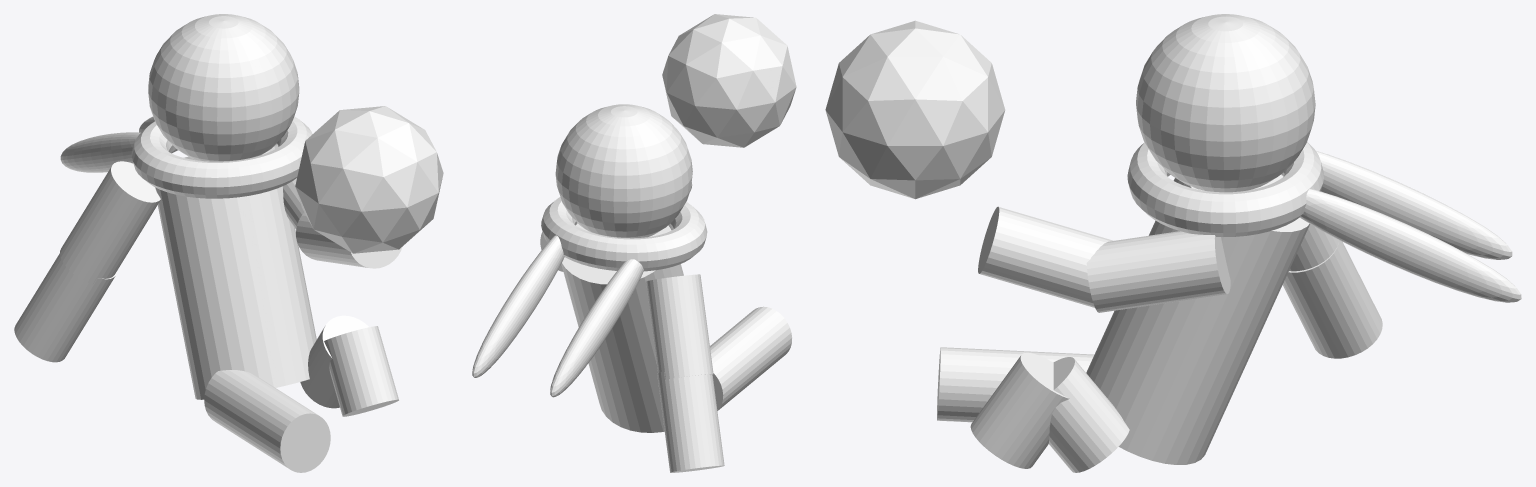
File: taikihito.obj
The picture shows the model from 3 angles, left to right: view 1: azimuth 30°, elevation 25°; view 2: azimuth 150°, elevation 25°; view 3: azimuth 270°, elevation 25°; orthographic projection. The views are drawn at different scales.
Visible parts, largest first — view 1: 円柱, 球_球.001, ICO球, トーラス, 円柱.010_円柱.012, 円柱.011_円柱.013, 円柱.008_円柱.009, 円柱.006, 円柱.004_円柱.008, 円柱.003, 立方体.001_立方体.002, 円柱.002 (+1 smaller); view 2: 球_球.001, ICO球, 円柱, トーラス, 円柱.010_円柱.012, 円柱.011_円柱.013, 立方体.001_立方体.002, 立方体_立方体.001, 円柱.008_円柱.009, 円柱.004_円柱.008; view 3: 円柱, 球_球.001, ICO球, トーラス, 円柱.009_円柱.011, 立方体_立方体.001, 円柱.002, 円柱.011_円柱.013, 立方体.001_立方体.002, 円柱.006, 円柱.003, 円柱.008_円柱.009 (+1 smaller).
Boxes of the visible parts, <box> form: 円柱: <box>155,144,316,399</box>; 球_球.001: <box>148,14,299,161</box>; ICO球: <box>295,106,443,253</box>; トーラス: <box>131,116,312,198</box>; 円柱.010_円柱.012: <box>60,161,160,284</box>; 円柱.011_円柱.013: <box>14,253,117,362</box>; 円柱.008_円柱.009: <box>242,389,330,472</box>; 円柱.006: <box>324,326,398,416</box>; 円柱.004_円柱.008: <box>204,370,280,444</box>; 円柱.003: <box>300,315,368,408</box>; 立方体.001_立方体.002: <box>60,132,140,172</box>; 円柱.002: <box>296,212,402,268</box>; 球_球.001: <box>555,104,692,238</box>; ICO球: <box>662,14,796,147</box>; 円柱: <box>561,223,683,432</box>; トーラス: <box>541,197,707,271</box>; 円柱.010_円柱.012: <box>646,274,713,379</box>; 円柱.011_円柱.013: <box>657,371,724,472</box>; 立方体.001_立方体.002: <box>550,259,643,397</box>; 立方体_立方体.001: <box>472,235,564,377</box>; 円柱.008_円柱.009: <box>720,306,791,381</box>; 円柱.004_円柱.008: <box>710,335,757,410</box>; 円柱: <box>1086,175,1309,464</box>; 球_球.001: <box>1136,14,1315,192</box>; ICO球: <box>825,20,1005,199</box>; トーラス: <box>1127,142,1323,236</box>; 円柱.009_円柱.011: <box>1086,231,1230,312</box>; 立方体_立方体.001: <box>1300,189,1521,302</box>; 円柱.002: <box>978,206,1113,307</box>; 円柱.011_円柱.013: <box>1282,242,1382,358</box>; 立方体.001_立方体.002: <box>1316,151,1512,259</box>; 円柱.006: <box>970,352,1069,468</box>; 円柱.003: <box>1048,357,1129,472</box>; 円柱.008_円柱.009: <box>937,347,1031,422</box>.
Bounding box in the file's own units: 3.82 × 5.27 × 7.74.
1 material, 1 textured.
